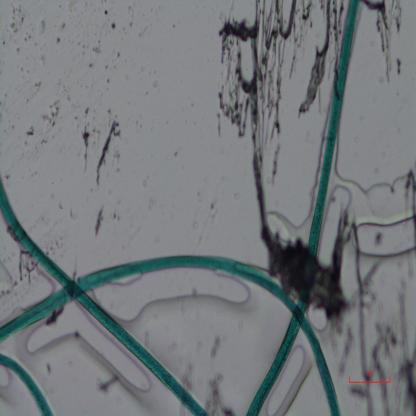Air bubble: (29, 306, 150, 394), (321, 182, 355, 266), (307, 303, 327, 327)
Background material: (218, 0, 301, 170), (260, 226, 344, 318), (362, 321, 416, 414), (296, 0, 337, 115), (361, 0, 410, 80), (350, 206, 416, 258), (93, 120, 122, 184), (0, 252, 35, 289), (205, 374, 234, 416), (40, 99, 62, 145), (195, 338, 224, 367), (3, 6, 27, 39), (36, 230, 65, 255), (80, 124, 92, 177), (96, 371, 121, 393), (91, 202, 105, 238), (207, 194, 227, 219), (23, 120, 35, 142), (93, 36, 103, 58), (38, 16, 48, 36), (191, 218, 203, 234), (136, 22, 148, 37), (31, 78, 41, 96), (66, 210, 80, 221), (148, 78, 160, 89), (77, 42, 88, 54), (54, 34, 63, 48), (65, 92, 73, 102), (58, 22, 67, 30), (110, 22, 117, 32), (25, 34, 33, 42), (84, 110, 91, 119), (16, 45, 22, 55), (18, 64, 24, 72), (102, 7, 108, 15), (106, 106, 111, 115), (127, 4, 132, 12), (102, 65, 110, 70), (138, 67, 144, 73), (174, 151, 178, 159), (128, 22, 134, 27), (116, 51, 121, 57), (172, 23, 176, 29), (105, 78, 110, 82), (73, 115, 77, 119), (89, 64, 93, 68)
Microfibre: (0, 250, 340, 416), (0, 178, 206, 415), (246, 0, 361, 414), (0, 352, 54, 415)
